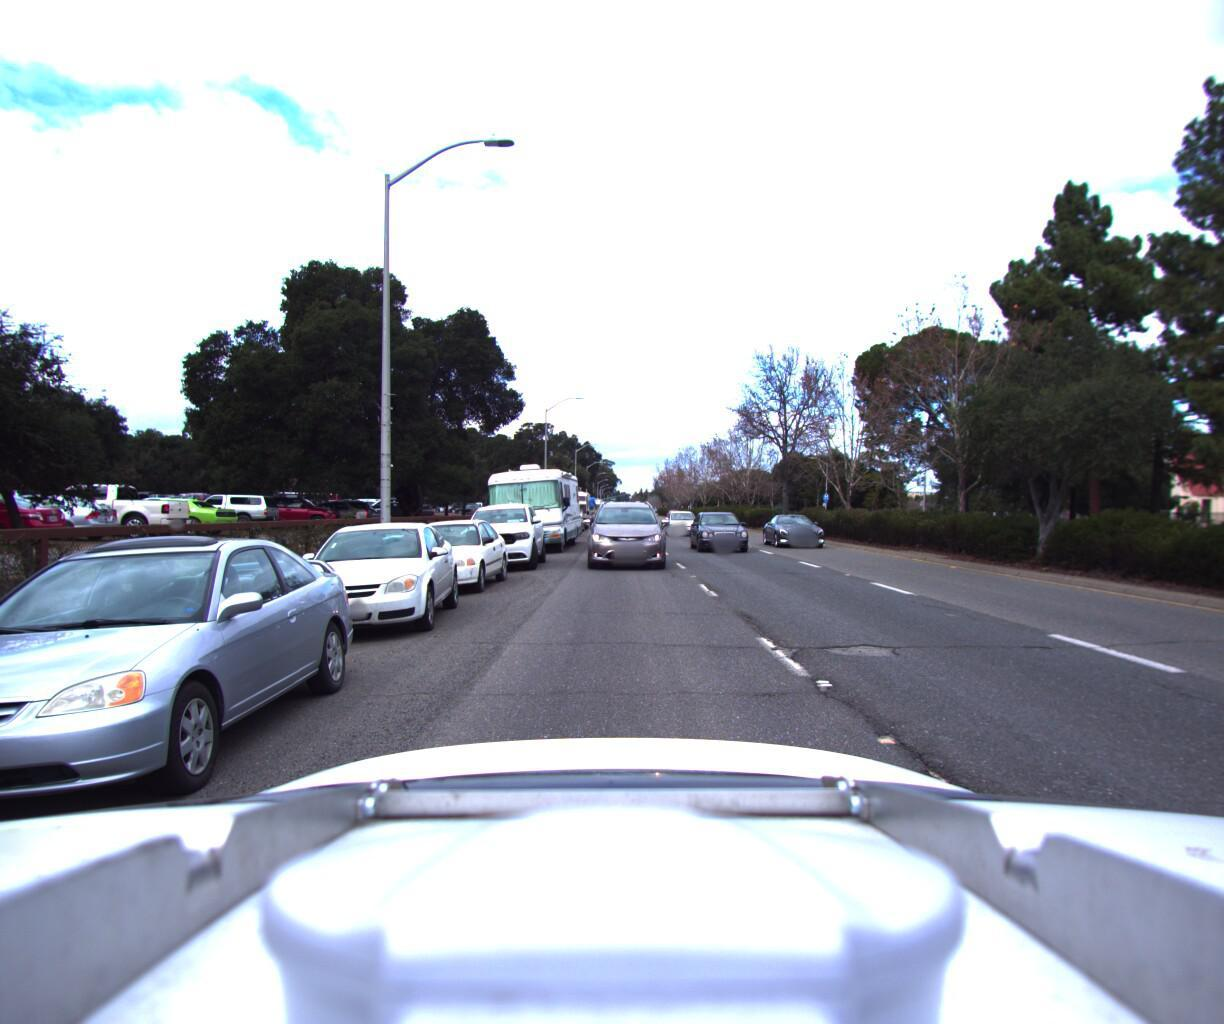car: (264, 513, 466, 643), (376, 513, 513, 597), (454, 493, 543, 571), (588, 493, 667, 573), (242, 490, 340, 528), (690, 506, 761, 553), (764, 505, 839, 548), (283, 493, 371, 527), (360, 495, 432, 522), (665, 508, 705, 537)
other_vehicle: (470, 451, 580, 554), (546, 481, 589, 528)
